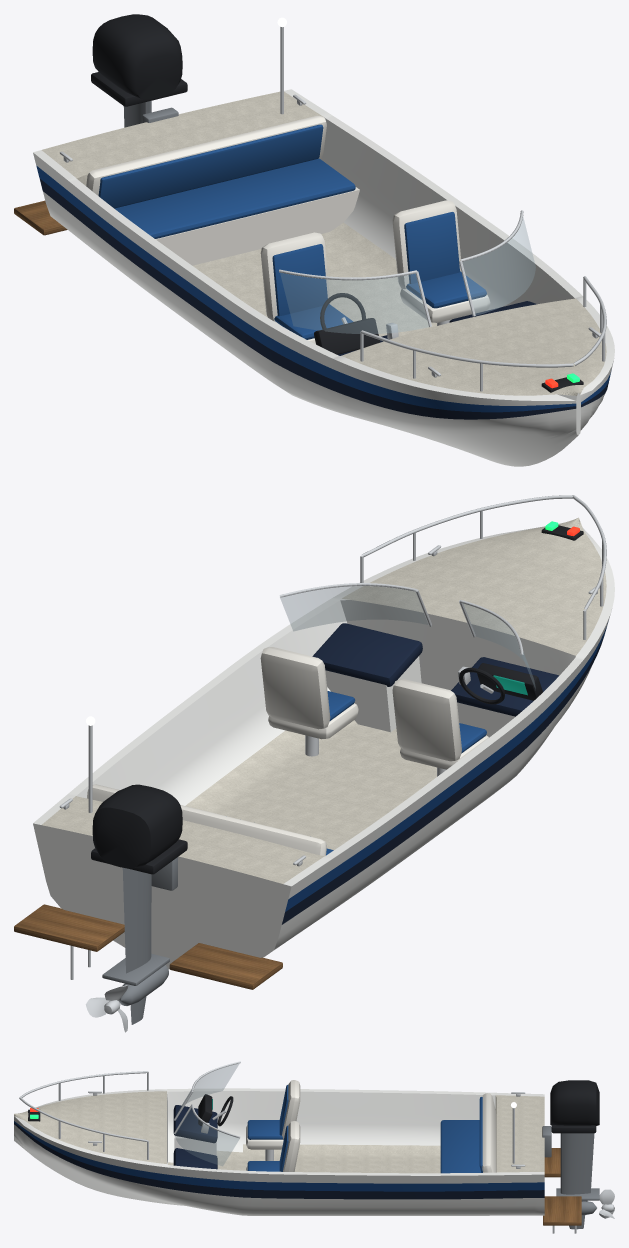
Rendered from speedboat.glb.
The picture shows the model from 3 angles, top to bottom: view 1: azimuth 30°, elevation 25°; view 2: azimuth 150°, elevation 25°; view 3: azimuth 270°, elevation 25°; orthographic projection. The views are drawn at different scales.
Parts seen in each view (by area): view 1: Speedboat, Motor; view 2: Speedboat, Motor, Propeller; view 3: Speedboat, Motor, Propeller.
Part boxes in pixels (x1=…): Speedboat: x1=14, y1=17, x2=614, y2=466; Motor: x1=91, y1=14, x2=187, y2=127; Speedboat: x1=14, y1=495, x2=614, y2=989; Motor: x1=91, y1=784, x2=187, y2=1024; Propeller: x1=85, y1=985, x2=127, y2=1032; Speedboat: x1=14, y1=1061, x2=581, y2=1233; Motor: x1=542, y1=1080, x2=599, y2=1229; Propeller: x1=599, y1=1189, x2=614, y2=1218.
Bounding box in the file's own units: 2.3 × 1.95 × 6.82.
16 materials, 2 textured.
